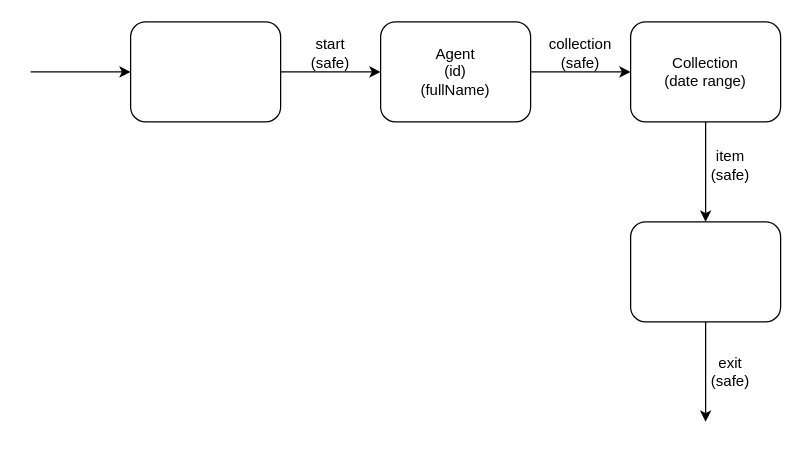
This 803x454 diagram has some shape labels left out. The centre of each missing label's shape, as x and y in pixels:
"Item (status code) (duration)" belongs at (x=705, y=271).
"query (agent) (date range)" belongs at (x=205, y=71).
